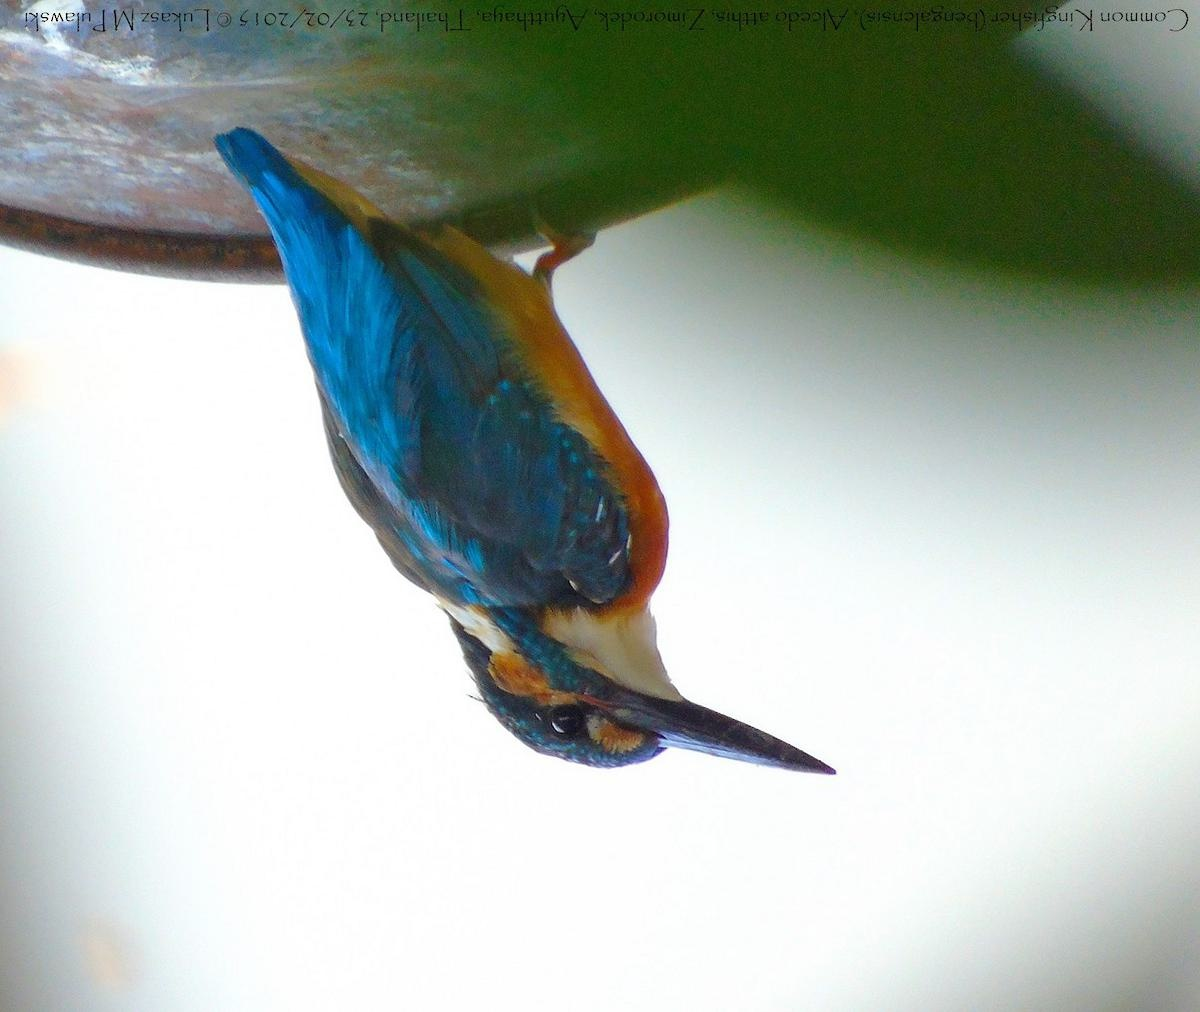kingfisher: (201, 116, 857, 805)
